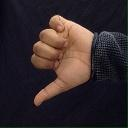hand: (30, 14, 93, 107)
